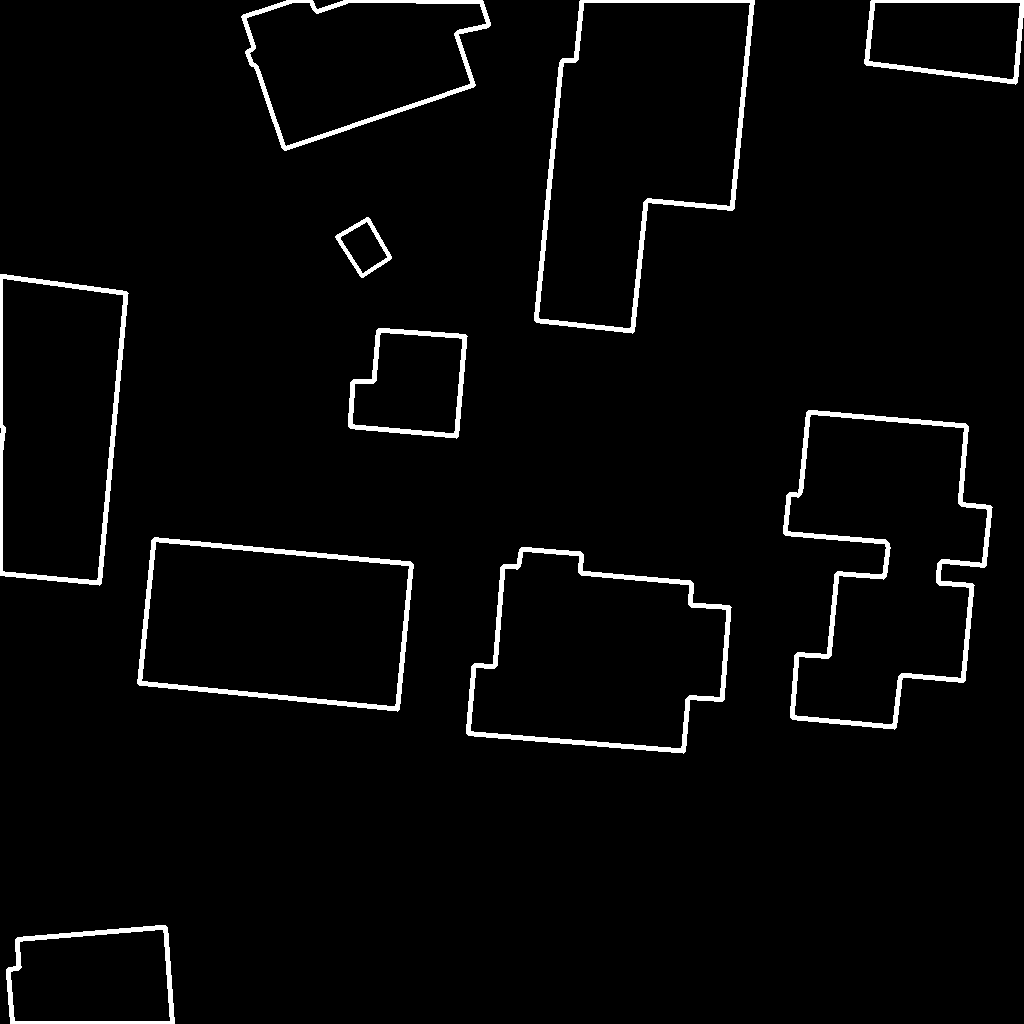building: (536, 0, 754, 332), (785, 412, 991, 728), (468, 549, 730, 752), (139, 539, 413, 710), (0, 276, 127, 584), (243, 0, 490, 150), (8, 927, 174, 1024), (866, 0, 1024, 83), (350, 330, 466, 437), (337, 219, 391, 277)
